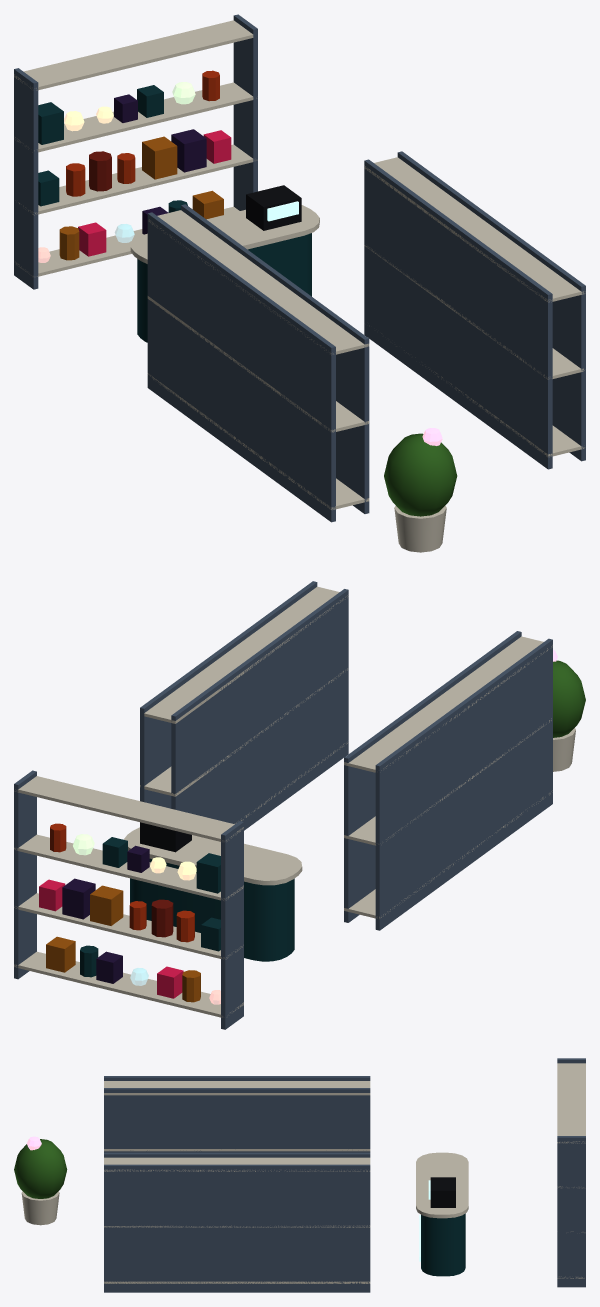
Rendered from fit_shop_1.glb.
3 views of the same model, one above another, from view 1: azimuth 30°, elevation 25°; view 2: azimuth 150°, elevation 25°; view 3: azimuth 270°, elevation 25° (orthographic). The views are drawn at different scales.
Parts seen in each view (by area): view 1: fit_shop_1; view 2: fit_shop_1; view 3: fit_shop_1.
Boxes of the visible parts, <box> form: fit_shop_1: <box>14,14,585,552</box>; fit_shop_1: <box>14,581,585,1029</box>; fit_shop_1: <box>14,1058,585,1292</box>.
Bounding box in the file's own units: 3.36 × 2.6 × 9.02.
